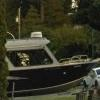Boat: (2, 30, 100, 99)
